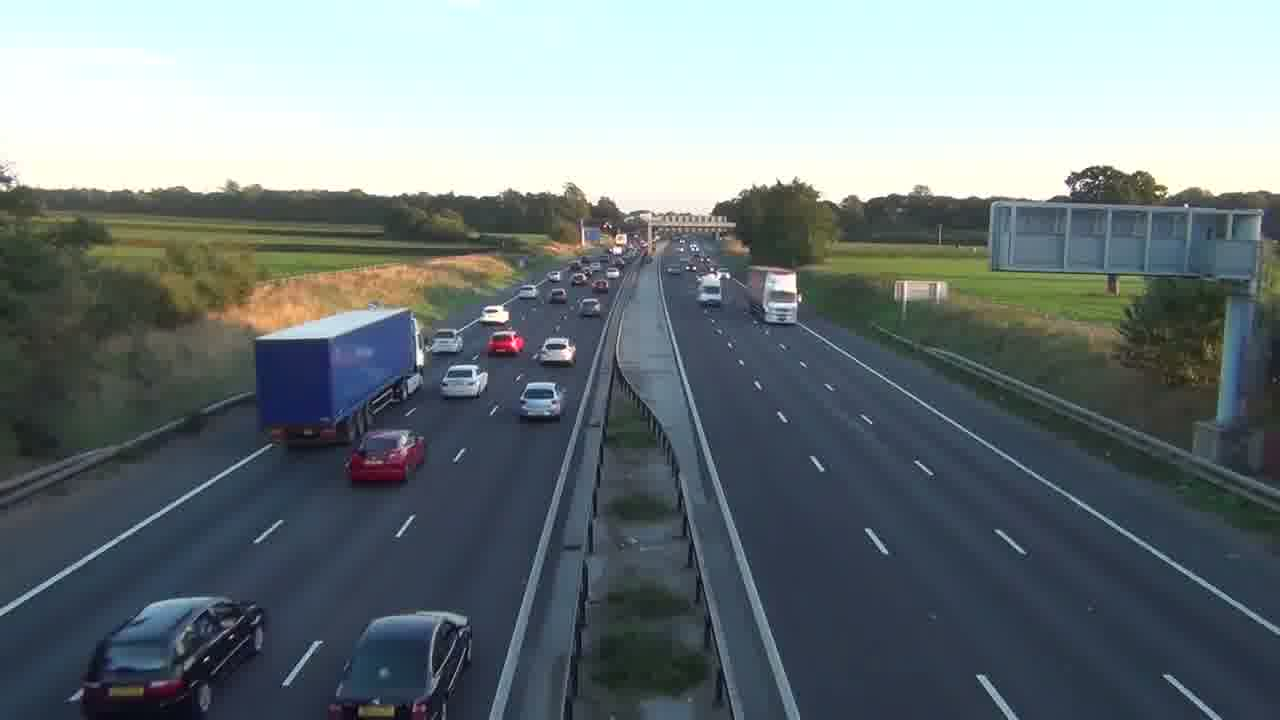car: (71, 593, 267, 716), (326, 609, 474, 718), (346, 428, 427, 484), (517, 380, 565, 421), (439, 362, 487, 398), (535, 336, 577, 367), (487, 330, 525, 356), (577, 297, 601, 318)
truck: (254, 306, 424, 449), (326, 609, 474, 718)
